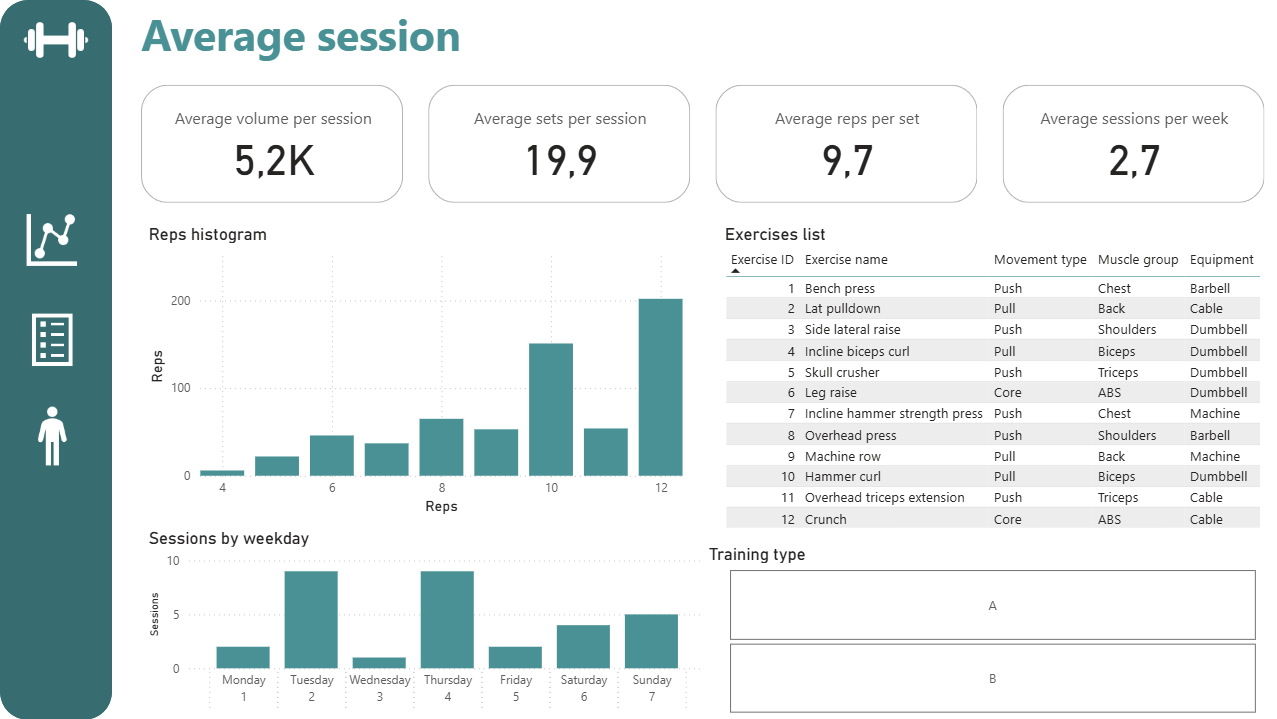

Layout of this report page (visuals, bound fields, positions):
{"tool":"powerbi","page":{"name":"Average session","canvas":[1280,720],"ordinal":2},"visuals":[{"type":"columnChart","title":"Sessions by weekday","fields":{"Category":["calendar.weekday_number","calendar.weekday_name"],"Y":["sets_log.Total Sessions"]},"box":[144,528,568,192],"z":0},{"type":"columnChart","title":"Reps histogram","fields":{"Category":["sets_log.reps"],"Y":["sets_log.Reps count"]},"box":[144,224,544,296],"z":1000},{"type":"tableEx","title":"Exercises list","fields":{"Values":["exercise_dict.exercise_id","exercise_dict.exercise_name","exercise_dict.movement_type","exercise_dict.muscle_group","exercise_dict.equipment"]},"box":[720,224,560,320],"z":2000},{"type":"slicer","title":"Training type","fields":{"Values":["exercise_dict.training_type"]},"box":[704,544,576,176],"z":3000},{"type":"shape","box":[0,0,112,720],"z":4000},{"type":"cardVisual","fields":{"Data":["sessions.Average volume per session","sessions.Average sets per session","sessions.Average reps per set","sessions.Average sessions per week"]},"box":[136,80,1136,128],"z":5000},{"type":"image","box":[0,0,112,80],"z":6000},{"type":"image","box":[8,200,88,80],"z":7000},{"type":"image","box":[16,304,72,72],"z":8000},{"type":"image","box":[16,400,72,72],"z":9000},{"type":"textbox","box":[136,0,392,80],"z":10000}]}

Visuals, with their boxes on the page's 1280x720 design canvas (x1, y1, x2, y2). These are canvas units, not pixel positions in the 1277x719 screenshot, which may show the page scaled, cropped or inside an application window:
"Sessions by weekday" columnChart: region(144, 528, 712, 720)
"Reps histogram" columnChart: region(144, 224, 688, 520)
"Exercises list" tableEx: region(720, 224, 1280, 544)
"Training type" slicer: region(704, 544, 1280, 720)
shape: region(0, 0, 112, 720)
cardVisual - sessions.Average volume per session x sessions.Average sets per session: region(136, 80, 1272, 208)
image: region(0, 0, 112, 80)
image: region(8, 200, 96, 280)
image: region(16, 304, 88, 376)
image: region(16, 400, 88, 472)
textbox: region(136, 0, 528, 80)
